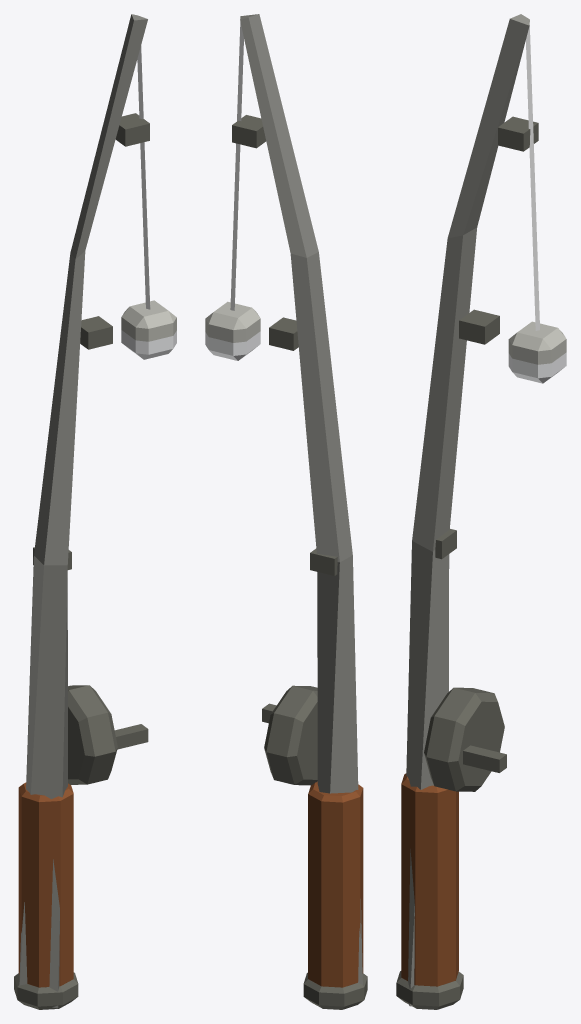
Rendered from StoneFishingRod.fbx.
The picture shows the model from 3 angles, left to right: view 1: azimuth 30°, elevation 25°; view 2: azimuth 150°, elevation 25°; view 3: azimuth 330°, elevation 25°; orthographic projection. The views are drawn at different scales.
Visible parts, largest first — view 1: StoneFishingRod; view 2: StoneFishingRod; view 3: StoneFishingRod.
Part boxes in pixels (x1,y1,x2,y2): StoneFishingRod: [14, 14, 176, 1009]; StoneFishingRod: [205, 14, 367, 1009]; StoneFishingRod: [396, 14, 566, 1009].
Size of the model in its own units: 0.74 by 4.47 by 0.44.
1 material, 1 textured.
